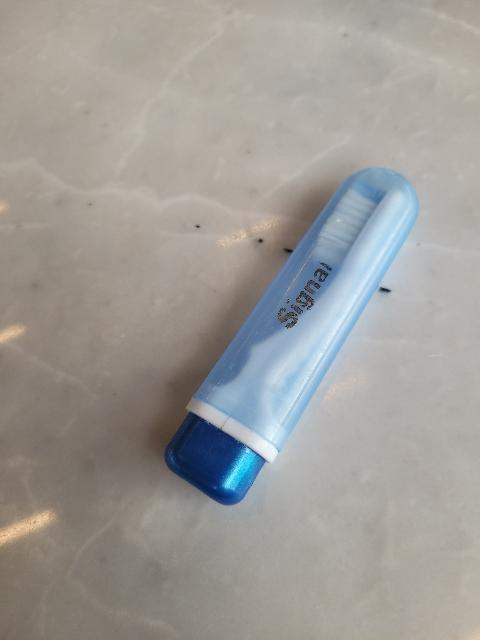Plastik: (157, 165, 423, 516)
